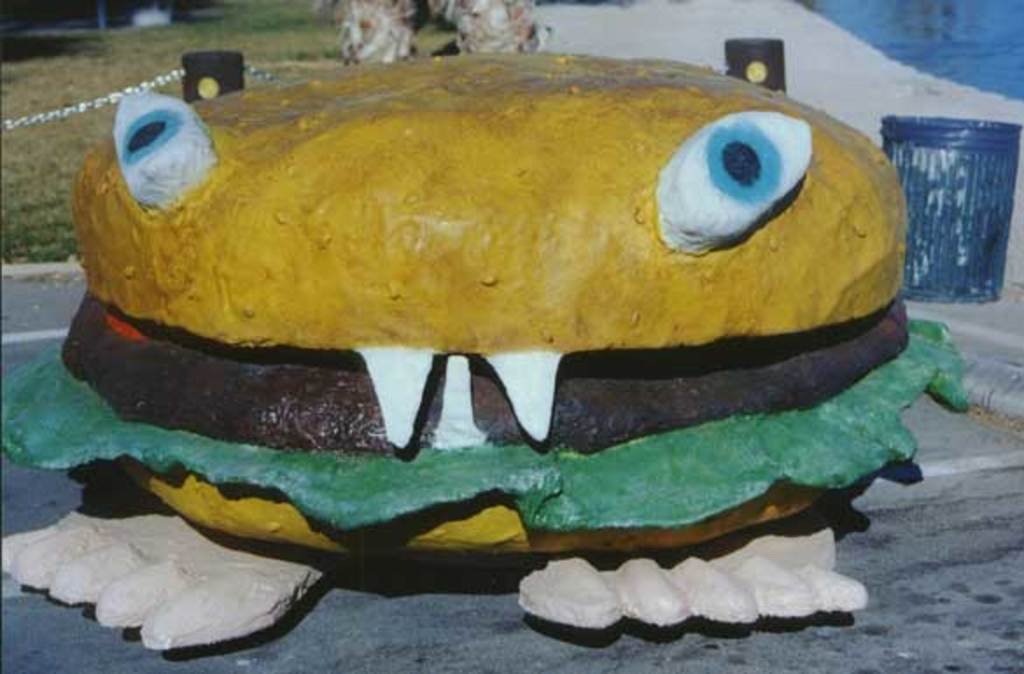sandwich: (0, 47, 961, 565)
